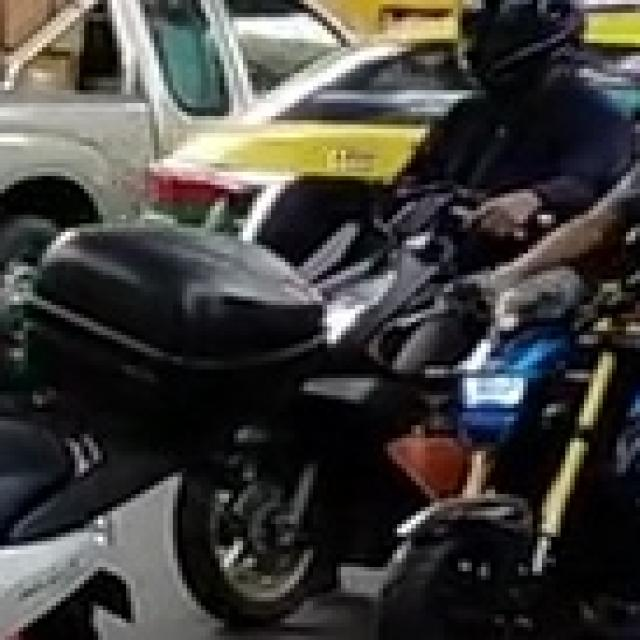helmet: (458, 0, 584, 90)
tyre: (173, 451, 336, 623)
